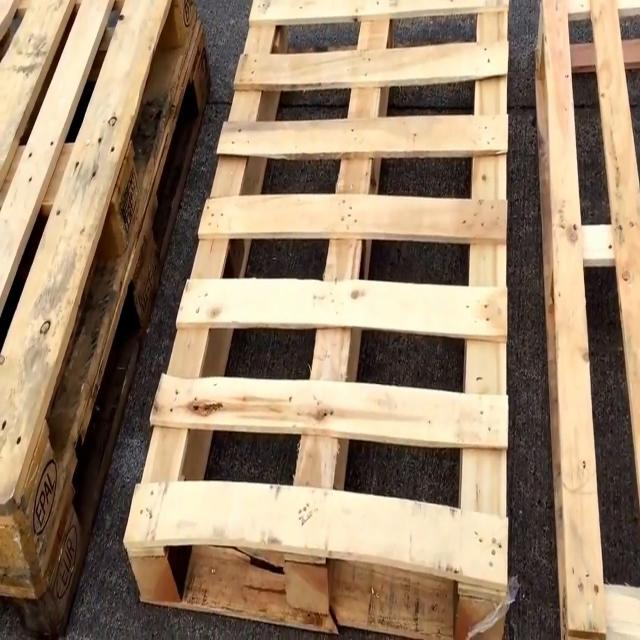Palette: (121, 0, 512, 640), (0, 0, 217, 640), (536, 0, 640, 640)
